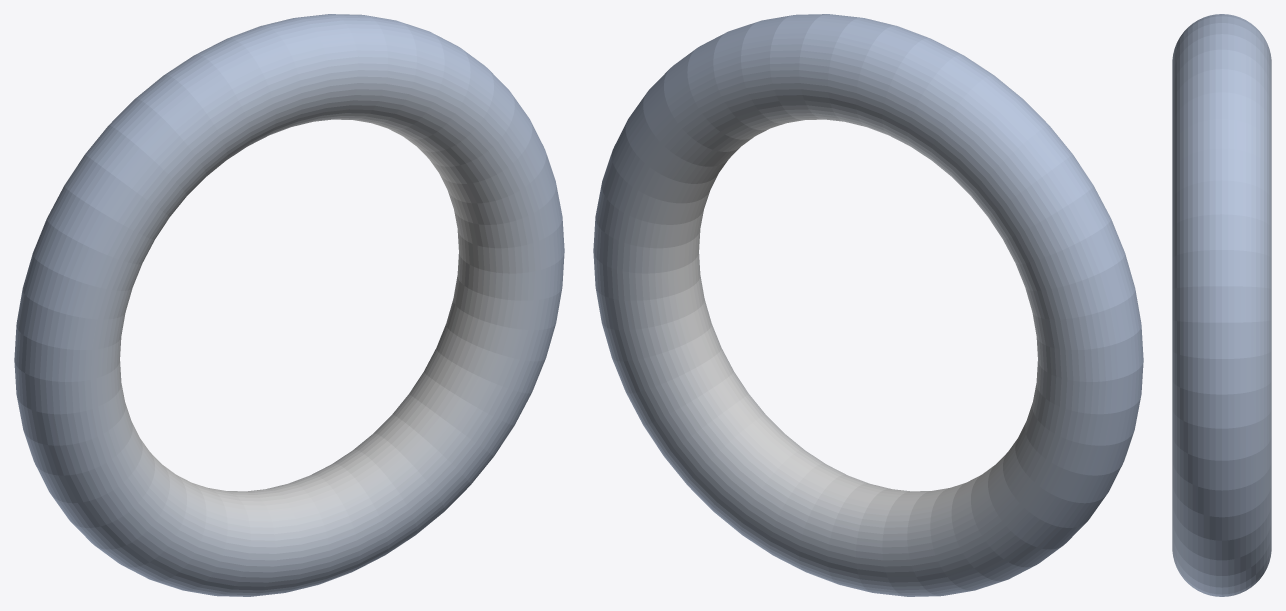
The picture shows the model from 3 angles, left to right: view 1: azimuth 30°, elevation 25°; view 2: azimuth 150°, elevation 25°; view 3: azimuth 270°, elevation 25°; orthographic projection. The views are drawn at different scales.
Parts seen in each view (by area): view 1: world; view 2: world; view 3: world.
Boxes of the visible parts, x1,y1,x2,y2 form: world: [14, 14, 564, 596]; world: [593, 14, 1143, 596]; world: [1172, 14, 1271, 596].
Size of the model in its own units: 27.33 by 27.28 by 4.66.
